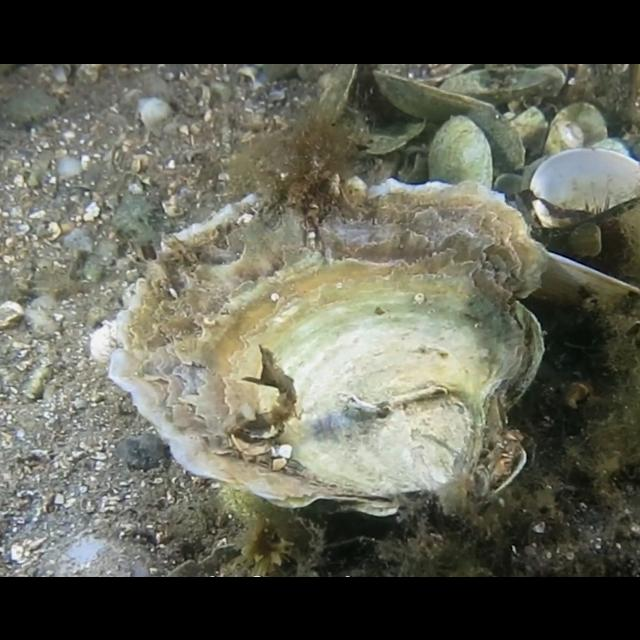Oyster-Closed: (92, 176, 550, 520)
